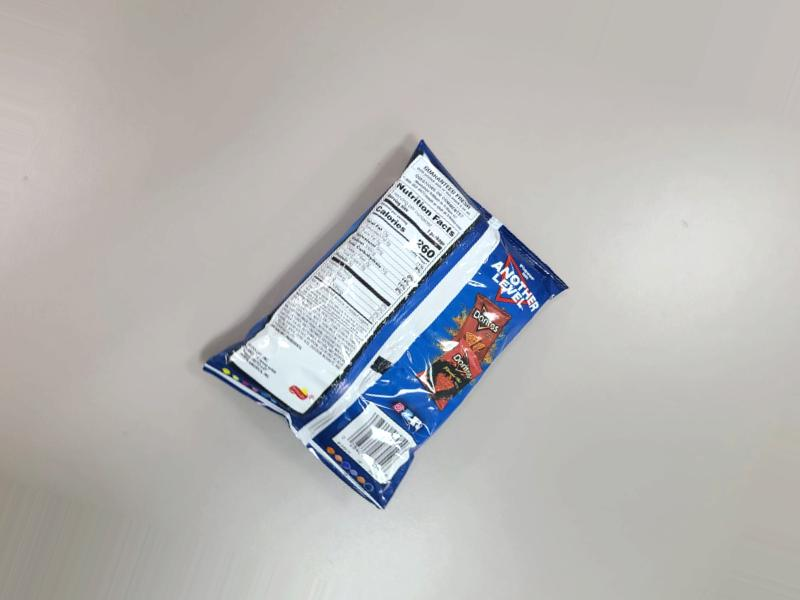doritos: (204, 125, 568, 533)
